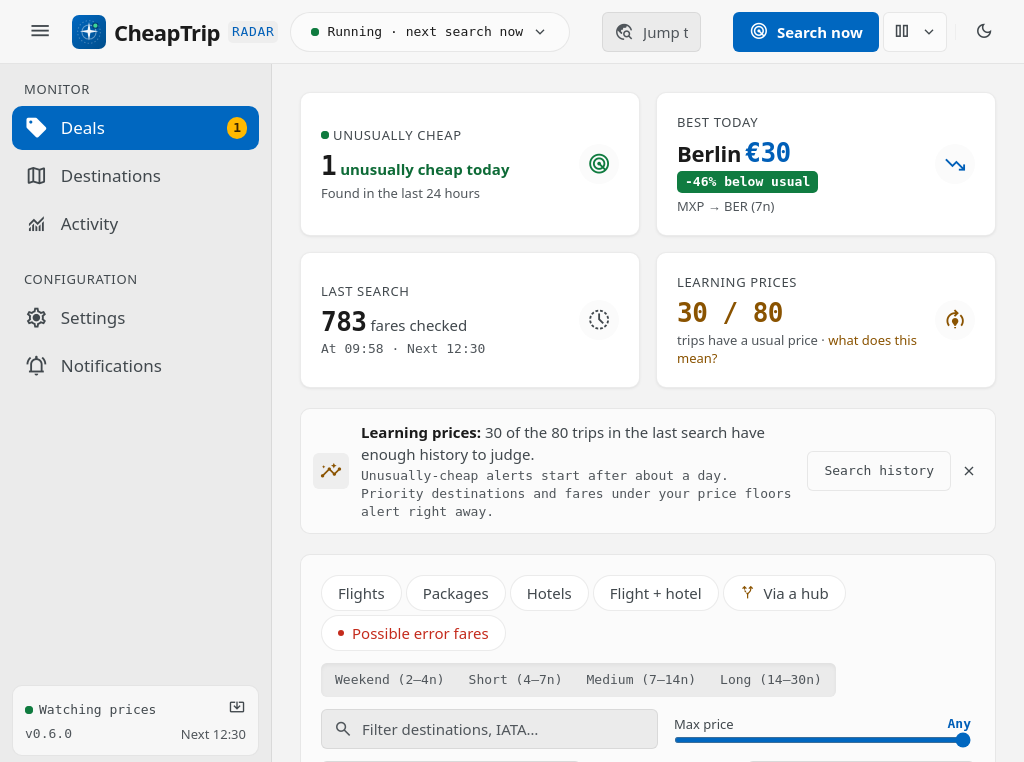
Test: the Deals screen › resets the max price when the filters are cleared
Set the slider labelled "Max price" to "150" at [745, 740], box left=674, top=737, right=971, bottom=743
(page scrolled)
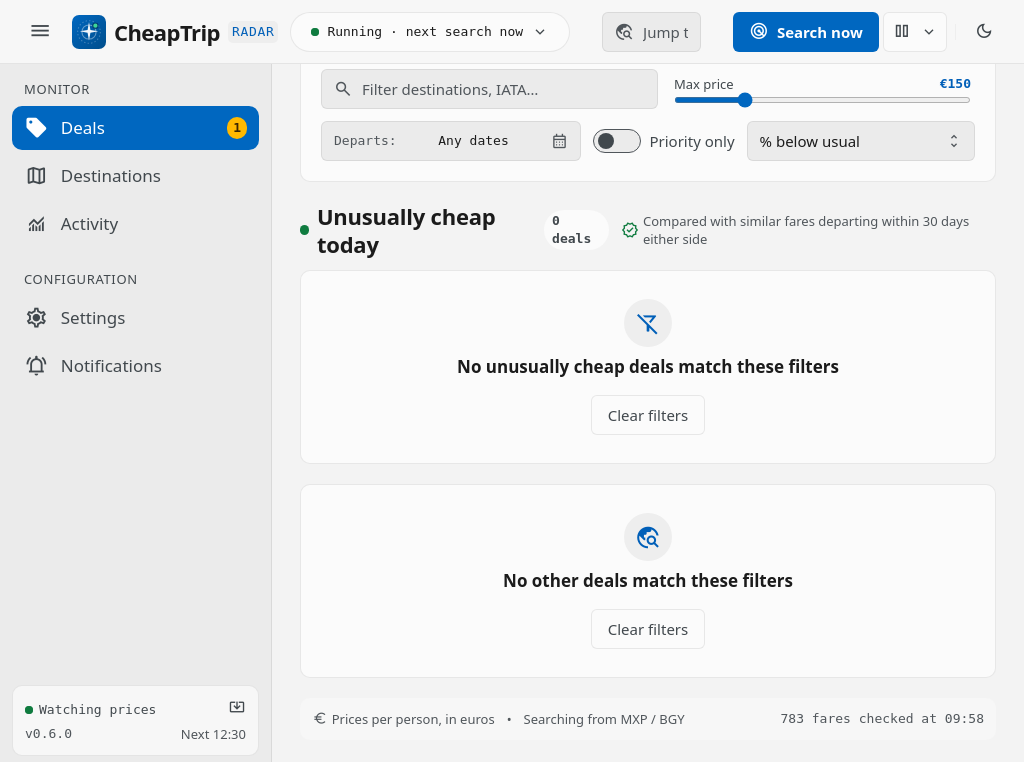
Click the button "Clear filters" below "0 deals" at [648, 415], box left=591, top=395, right=705, bottom=435
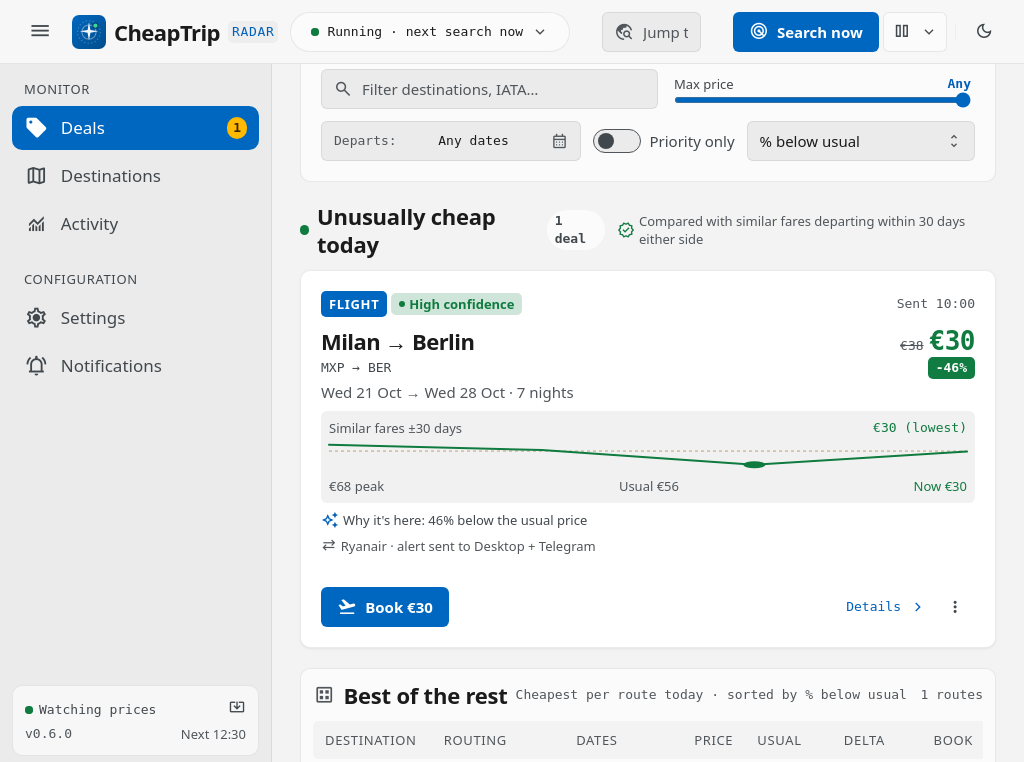
expect the text "Any" is shown: met, box left=948, top=75, right=971, bottom=93
expect the slider labelled "Max price" holds "600": met, box left=674, top=97, right=971, bottom=103
